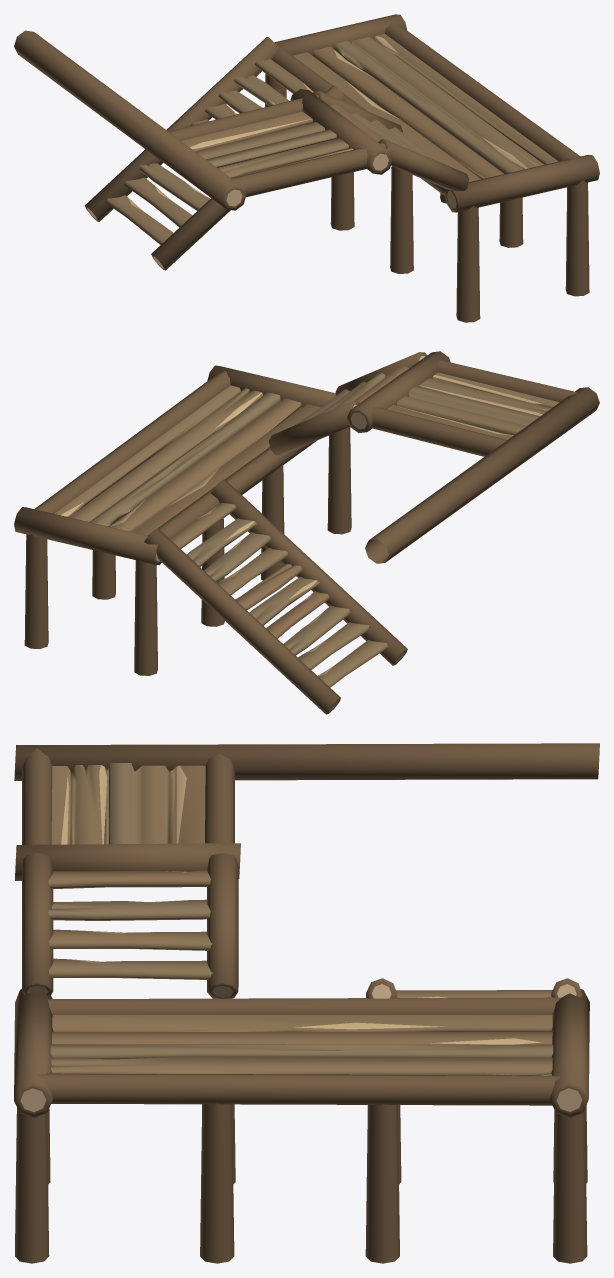
The model's file is rpgpp_ag_stairs_interior_02d_3m.fbx.
The picture shows the model from 3 angles, top to bottom: view 1: azimuth 30°, elevation 25°; view 2: azimuth 150°, elevation 25°; view 3: azimuth 270°, elevation 25°; orthographic projection. The views are drawn at different scales.
Visible parts, largest first — view 1: rpgpp_ag_stairs_interior_02d_3m; view 2: rpgpp_ag_stairs_interior_02d_3m; view 3: rpgpp_ag_stairs_interior_02d_3m.
Part boxes in pixels (<box>): rpgpp_ag_stairs_interior_02d_3m: <box>14,14,599,322</box>; rpgpp_ag_stairs_interior_02d_3m: <box>14,351,599,714</box>; rpgpp_ag_stairs_interior_02d_3m: <box>14,743,599,1263</box>.
Bounding box in the file's own units: 6.25 × 3.12 × 6.01.
